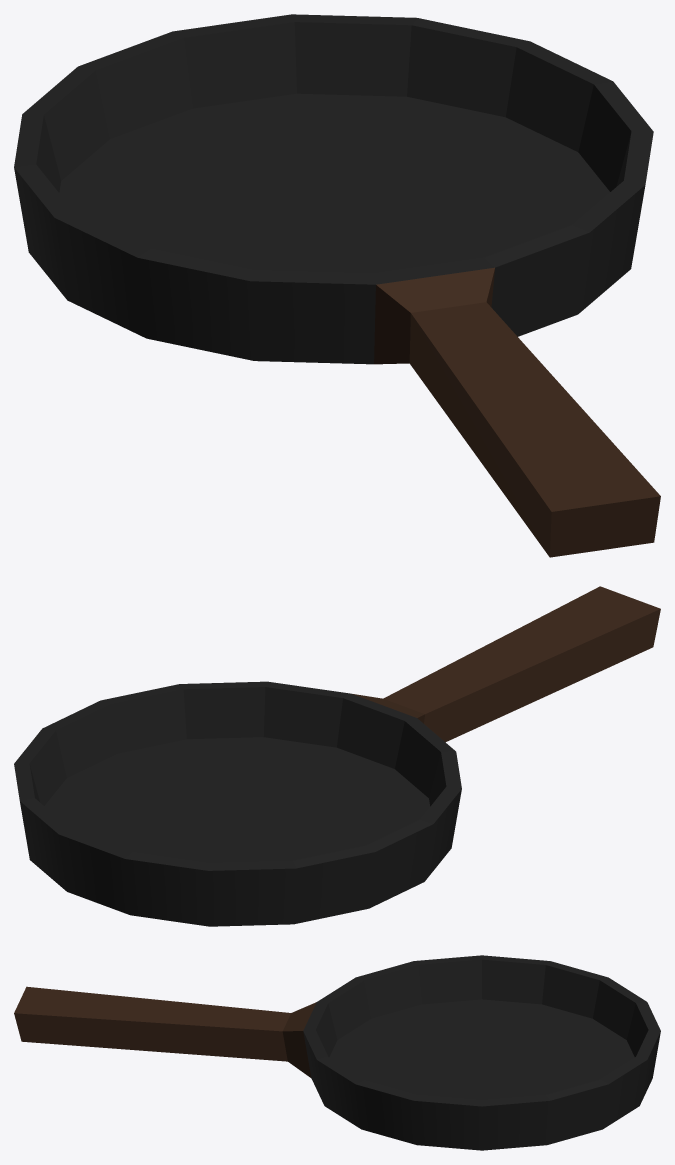
File: sarten.fbx
The picture shows the model from 3 angles, top to bottom: view 1: azimuth 30°, elevation 25°; view 2: azimuth 150°, elevation 25°; view 3: azimuth 270°, elevation 25°; orthographic projection. The views are drawn at different scales.
Parts seen in each view (by area): view 1: Cylinder008, Object; view 2: Cylinder008, Object; view 3: Cylinder008, Object.
Boxes of the visible parts, <box> form: Cylinder008: <box>14,14,653,364</box>; Object: <box>374,267,660,557</box>; Cylinder008: <box>14,681,461,926</box>; Object: <box>352,586,660,742</box>; Cylinder008: <box>303,955,660,1150</box>; Object: <box>14,986,316,1077</box>.
Bounding box in the file's own units: 67.86 × 10.17 × 123.
